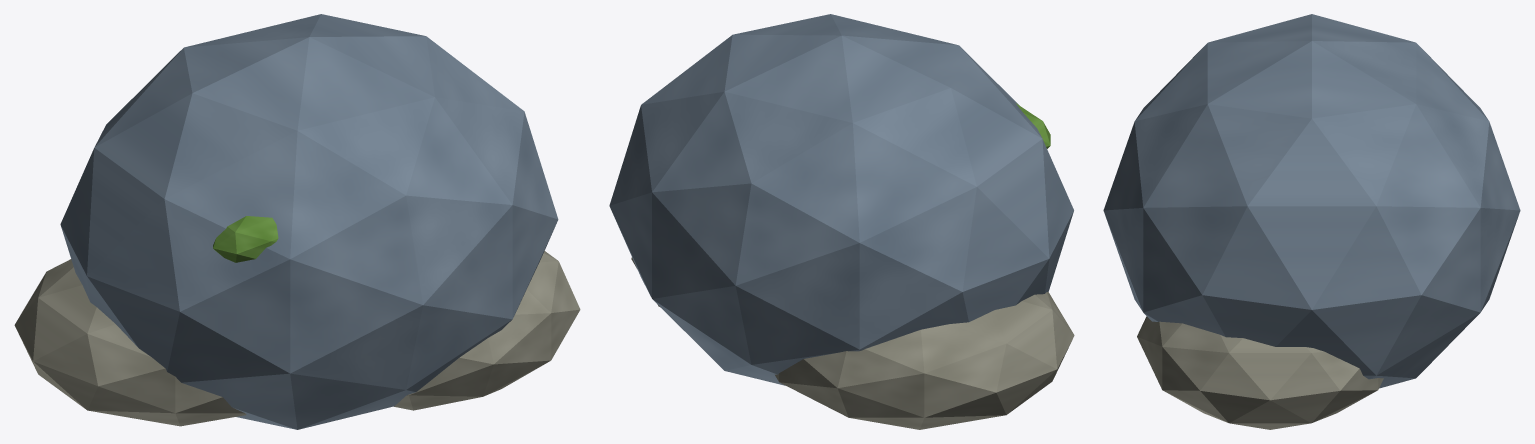
Rendered from rots.glb.
3 renders of one model, left to right at view 1: azimuth 30°, elevation 25°; view 2: azimuth 150°, elevation 25°; view 3: azimuth 270°, elevation 25°, orthographic. The views are drawn at different scales.
Parts seen in each view (by area): view 1: world; view 2: world; view 3: world.
Boxes of the visible parts, <box> form: world: <box>14,14,580,429</box>; world: <box>609,14,1074,429</box>; world: <box>1103,14,1520,429</box>.
Bounding box in the file's own units: 1.6 × 1.17 × 1.3.
Materials: 1 (1 with a texture image).
